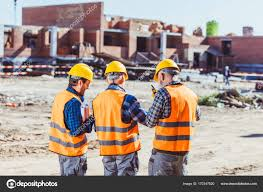helmet: (154, 57, 179, 79), (70, 62, 95, 83), (103, 61, 131, 79)
vest: (94, 94, 142, 151), (161, 90, 197, 154), (51, 93, 87, 155)
